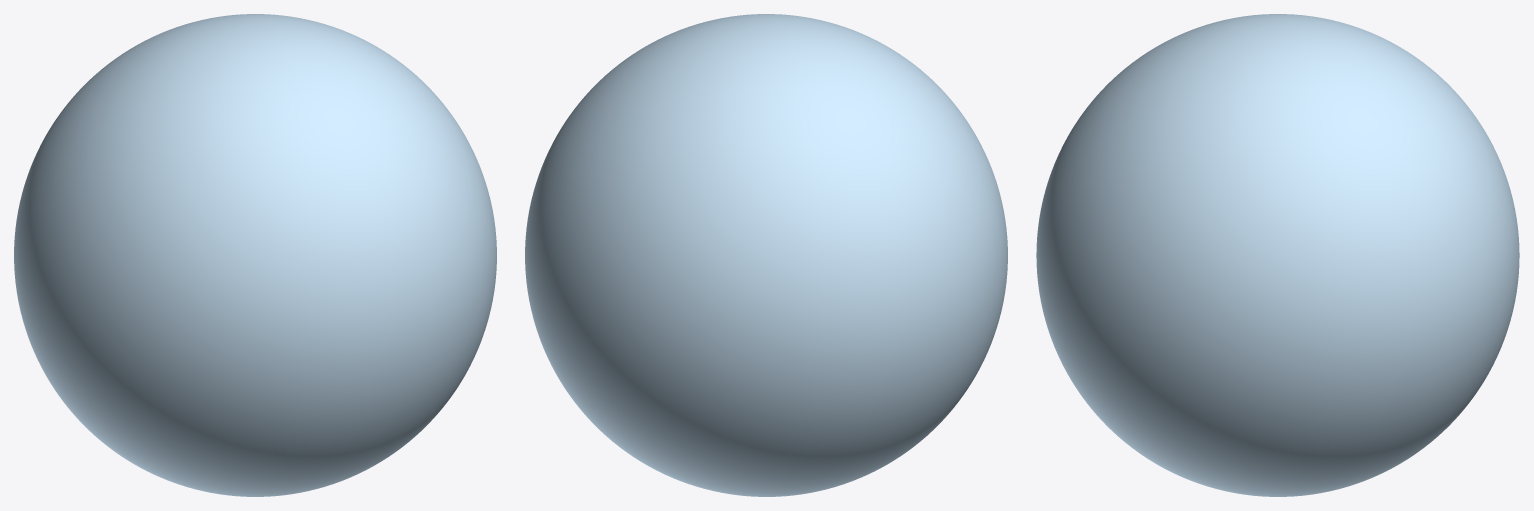
Rendered from ball.fbx.
The picture shows the model from 3 angles, left to right: view 1: azimuth 30°, elevation 25°; view 2: azimuth 150°, elevation 25°; view 3: azimuth 270°, elevation 25°; orthographic projection.
Parts seen in each view (by area): view 1: Icosphere; view 2: Icosphere; view 3: Icosphere.
Part boxes in pixels (x1=…): Icosphere: x1=14, y1=14, x2=496, y2=496; Icosphere: x1=525, y1=14, x2=1007, y2=496; Icosphere: x1=1036, y1=14, x2=1519, y2=496.
Bounding box in the file's own units: 200 × 200 × 200.
